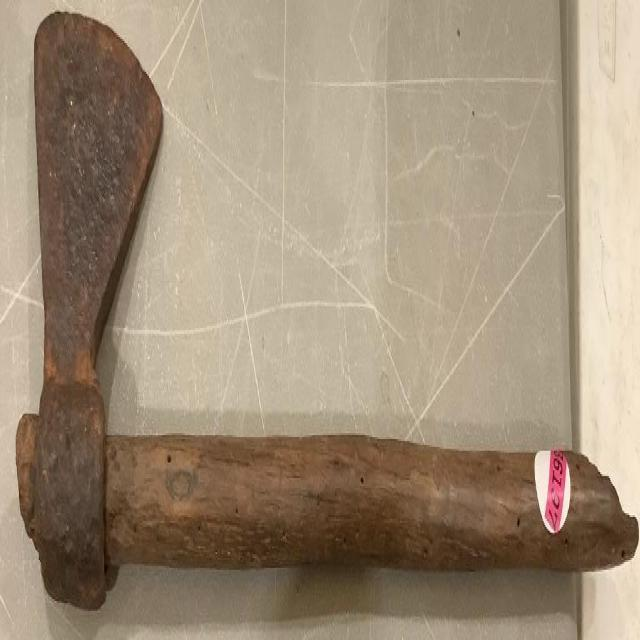hammer: (11, 4, 640, 618)
